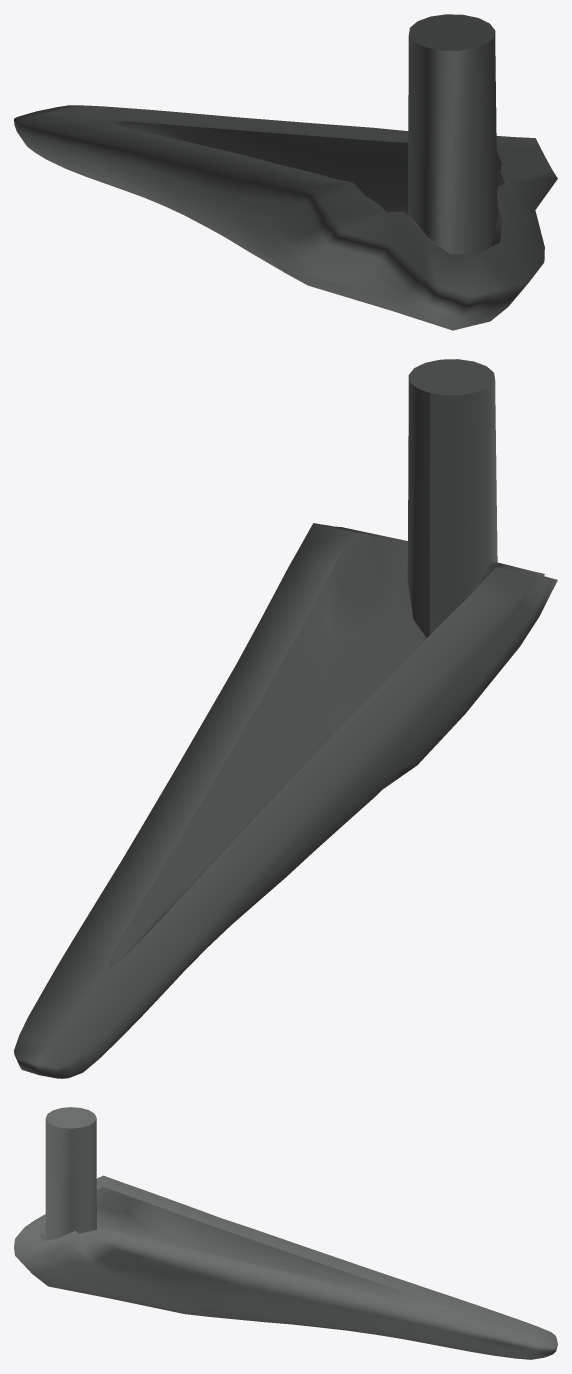
Rendered from boca-ptero.obj.
The picture shows the model from 3 angles, top to bottom: view 1: azimuth 30°, elevation 25°; view 2: azimuth 150°, elevation 25°; view 3: azimuth 270°, elevation 25°; orthographic projection. The views are drawn at different scales.
Parts seen in each view (by area): view 1: boca; view 2: boca; view 3: boca.
Part boxes in pixels (x1,y1,x2,y2): boca: (14,14,557,330); boca: (14,359,557,1078); boca: (14,1107,557,1359).
Bounding box in the file's own units: 9.43 × 16.31 × 34.17.
1 material, 1 textured.
